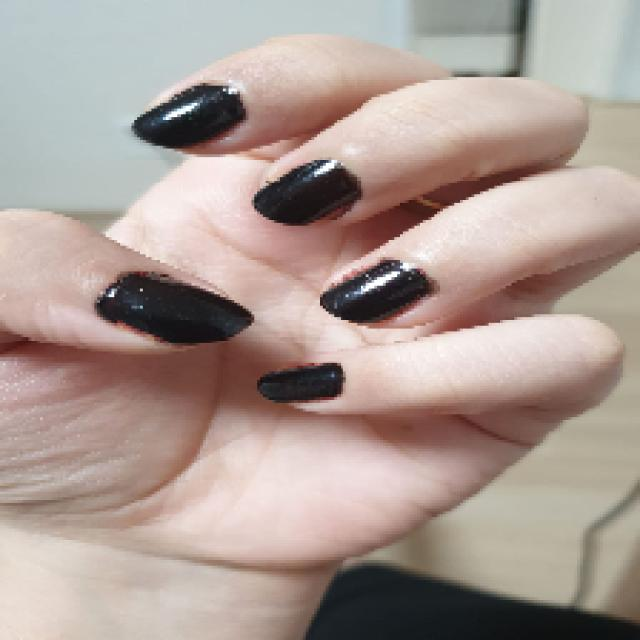Nail: (96, 272, 252, 343), (134, 85, 245, 148), (320, 260, 432, 322), (254, 160, 359, 224), (258, 362, 344, 402)
